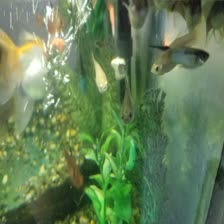Cuezo: (0, 24, 76, 132)
Guppy: (150, 28, 198, 80), (142, 43, 211, 68), (117, 72, 135, 126), (88, 47, 107, 95), (123, 0, 153, 30)
Transparente: (53, 138, 87, 189)
